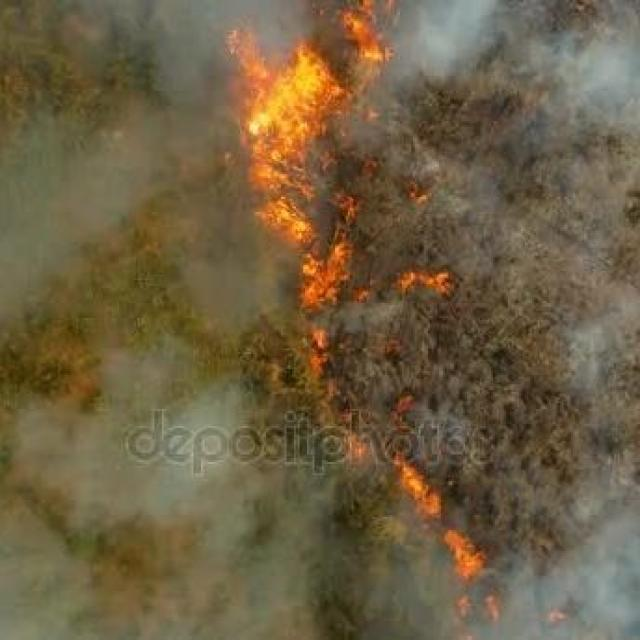Fire: (374, 432, 472, 569), (228, 38, 348, 142), (249, 154, 335, 268), (292, 283, 346, 407), (397, 254, 466, 308), (362, 1, 395, 82)
Smoke: (19, 372, 302, 640), (0, 0, 219, 312), (418, 0, 638, 233), (547, 267, 640, 638)
